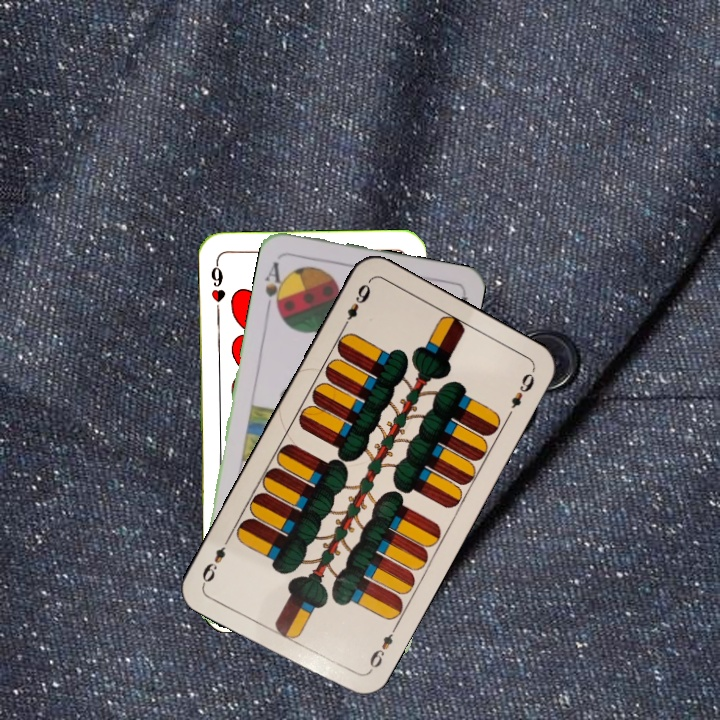E9: (337, 277, 374, 332), (363, 623, 399, 677)
H9: (206, 257, 228, 316)
SA: (261, 257, 290, 315)
